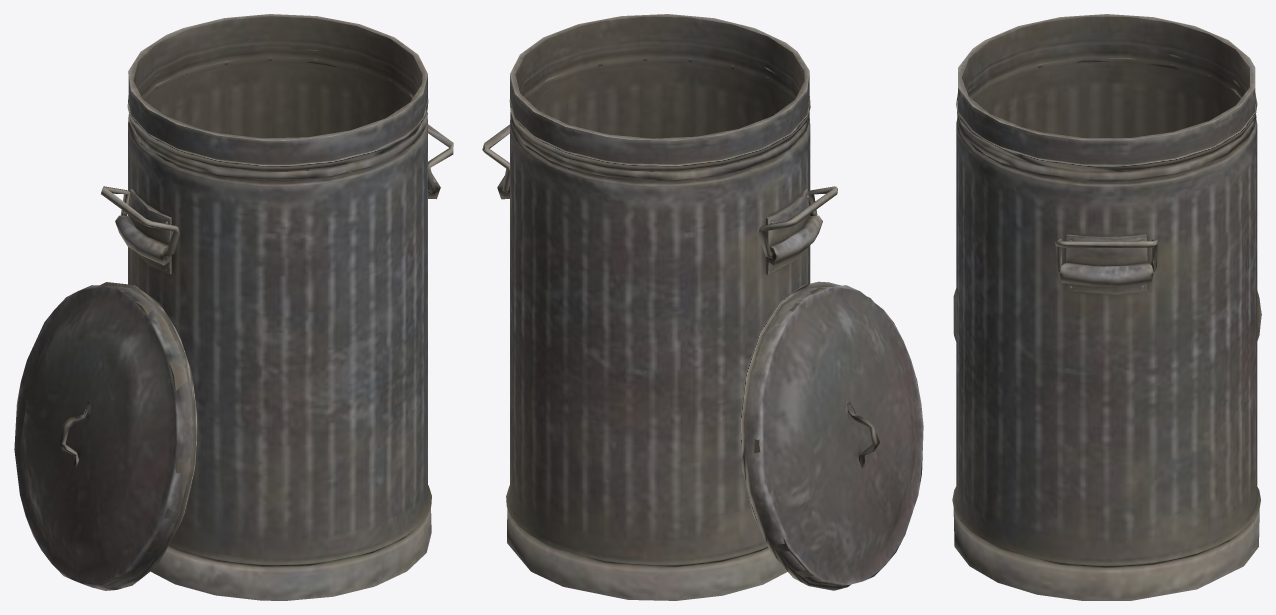
The model's file is metal_trash_can.glb.
3 renders of one model, left to right at view 1: azimuth 30°, elevation 25°; view 2: azimuth 150°, elevation 25°; view 3: azimuth 270°, elevation 25°, orthographic.
Visible parts, largest first — view 1: metal_trash_can_handle_left; view 2: metal_trash_can_handle_left; view 3: metal_trash_can_handle_left.
Part boxes in pixels (x1,y1,x2,y2): metal_trash_can_handle_left: [14, 14, 453, 600]; metal_trash_can_handle_left: [482, 14, 923, 600]; metal_trash_can_handle_left: [952, 14, 1261, 600].
Bounding box in the file's own units: 0.7771 × 0.9062 × 0.5533.
1 material, 1 textured.
